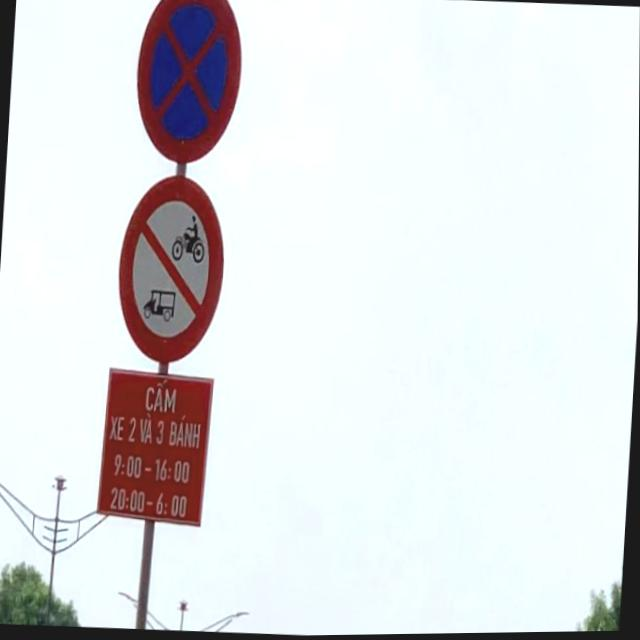Cam dung xe va do xe: (130, 0, 246, 169)
